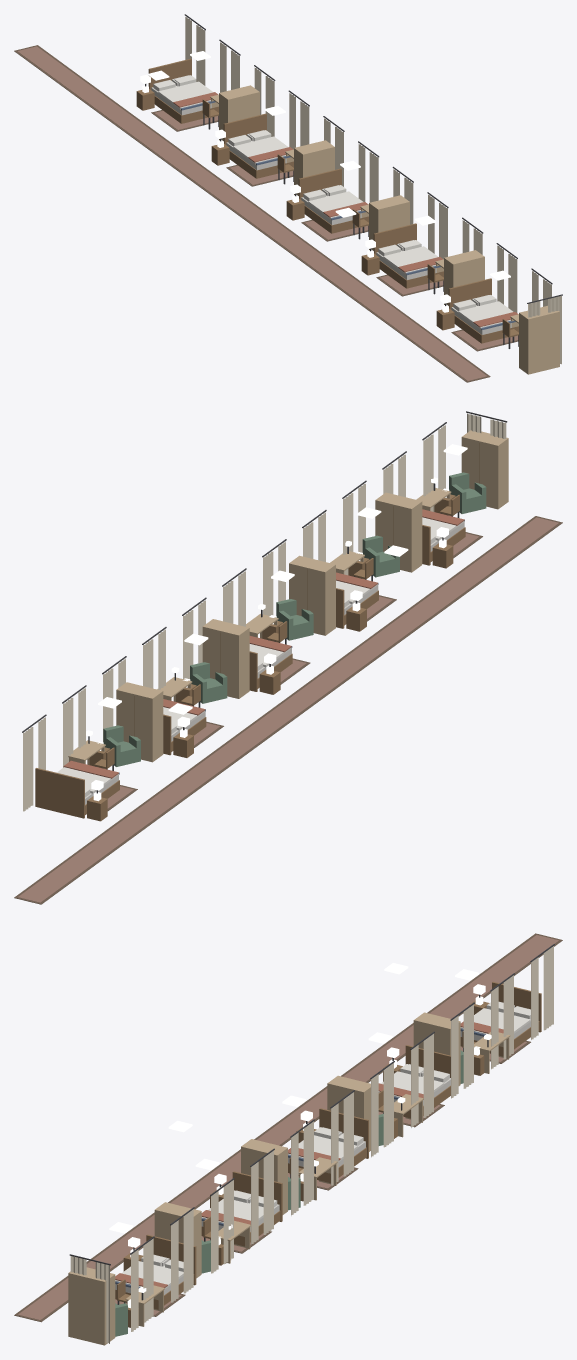
Rendered from fine-s5.glb.
The picture shows the model from 3 angles, top to bottom: view 1: azimuth 30°, elevation 25°; view 2: azimuth 150°, elevation 25°; view 3: azimuth 330°, elevation 25°; orthographic projection. The views are drawn at different scales.
Visible parts, largest first — view 1: soft-s5, dresser.024, bed-frame.021, bed-frame.023, bed-frame.024, bed-frame.022, bed-frame.020, dresser.023, dresser.020, dresser.021, dresser.022; view 2: soft-s5, dresser.020, dresser.021, dresser.022, dresser.024, dresser.023, bed-frame.020, lounge-chair.022, lounge-chair.024, lounge-chair.020, lounge-chair.021, lounge-chair.023 (+4 smaller); view 3: soft-s5, dresser.024, dresser.022, dresser.023, dresser.020, dresser.021, bed-frame.022, bed-frame.023, bed-frame.020, bed-frame.024, bed-frame.021, writing-desk.021 (+4 smaller).
Part boxes in pixels (<box>): soft-s5: <box>14,14,562,382</box>; dresser.024: <box>519,305,559,374</box>; bed-frame.021: <box>223,113,293,178</box>; bed-frame.023: <box>373,223,443,288</box>; bed-frame.024: <box>448,278,518,343</box>; bed-frame.022: <box>298,168,368,233</box>; bed-frame.020: <box>148,58,218,123</box>; dresser.023: <box>444,250,484,305</box>; dresser.020: <box>219,85,259,140</box>; dresser.021: <box>294,140,334,195</box>; dresser.022: <box>369,195,409,250</box>; soft-s5: <box>14,411,562,904</box>; dresser.020: <box>116,682,163,762</box>; dresser.021: <box>202,619,249,698</box>; dresser.022: <box>289,555,335,635</box>; dresser.024: <box>461,430,508,509</box>; dresser.023: <box>375,492,422,572</box>; bed-frame.020: <box>35,768,119,818</box>; lounge-chair.022: <box>276,599,313,640</box>; lounge-chair.024: <box>449,472,486,513</box>; lounge-chair.020: <box>103,725,140,766</box>; lounge-chair.021: <box>190,662,227,703</box>; lounge-chair.023: <box>362,535,399,577</box>; soft-s5: <box>14,933,562,1343</box>; dresser.024: <box>68,1267,115,1345</box>; dresser.022: <box>241,1139,287,1214</box>; dresser.023: <box>154,1202,201,1278</box>; dresser.020: <box>413,1012,460,1085</box>; dresser.021: <box>327,1075,370,1151</box>; bed-frame.022: <box>288,1108,368,1183</box>; bed-frame.023: <box>201,1171,282,1246</box>; bed-frame.020: <box>460,981,541,1056</box>; bed-frame.024: <box>115,1234,196,1309</box>; bed-frame.021: <box>394,1045,450,1118</box>; writing-desk.021: <box>394,1094,423,1137</box>.
Size of the model in its own units: 3.6 by 2.56 by 30.16.
